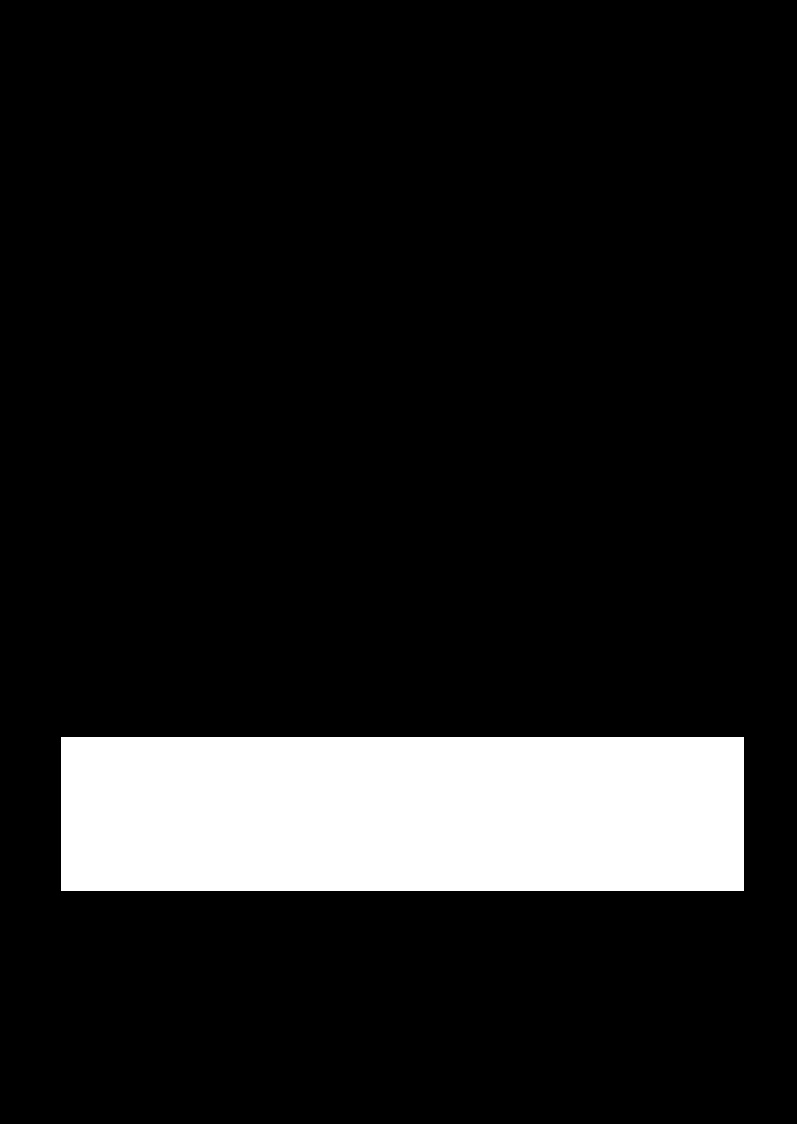table: (61, 737, 743, 890)
